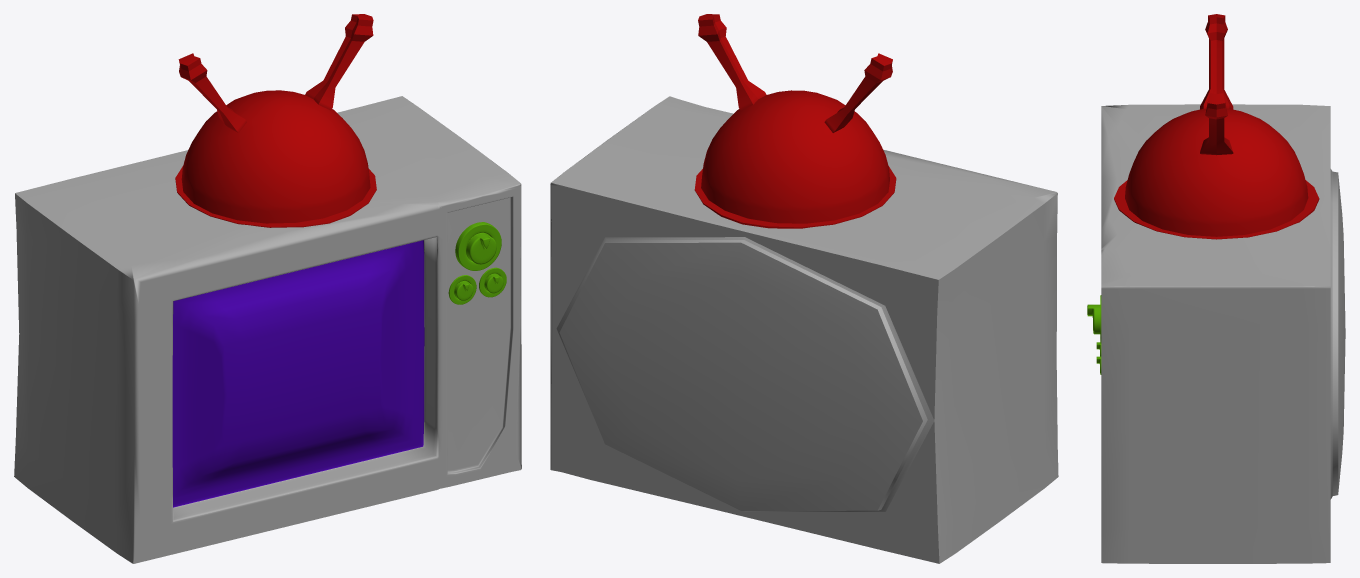
The picture shows the model from 3 angles, left to right: view 1: azimuth 30°, elevation 25°; view 2: azimuth 150°, elevation 25°; view 3: azimuth 270°, elevation 25°; orthographic projection. The views are drawn at different scales.
Visible parts, largest first — view 1: TV1; view 2: TV1; view 3: TV1.
Part boxes in pixels (x1,y1,x2,y2): TV1: (14,14,521,563); TV1: (550,14,1058,563); TV1: (1087,14,1345,563).
Bounding box in the file's own units: 37.61 × 40 × 22.25.
